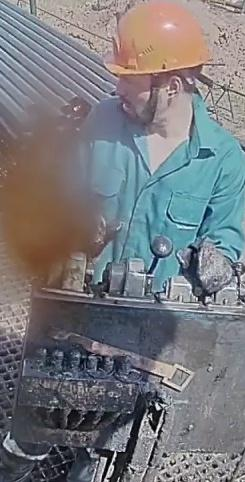gloves: (176, 234, 237, 297)
helmet: (102, 0, 210, 91)
vest: (76, 89, 244, 294)
